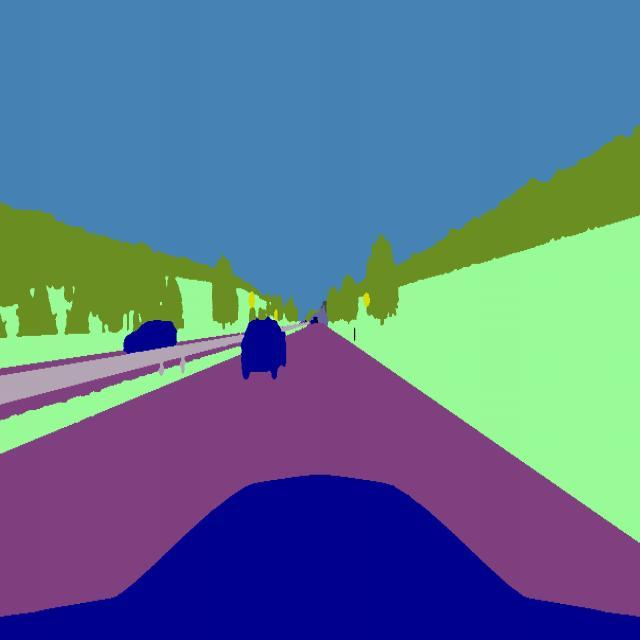safe: (238, 315, 290, 383), (121, 317, 178, 358)
